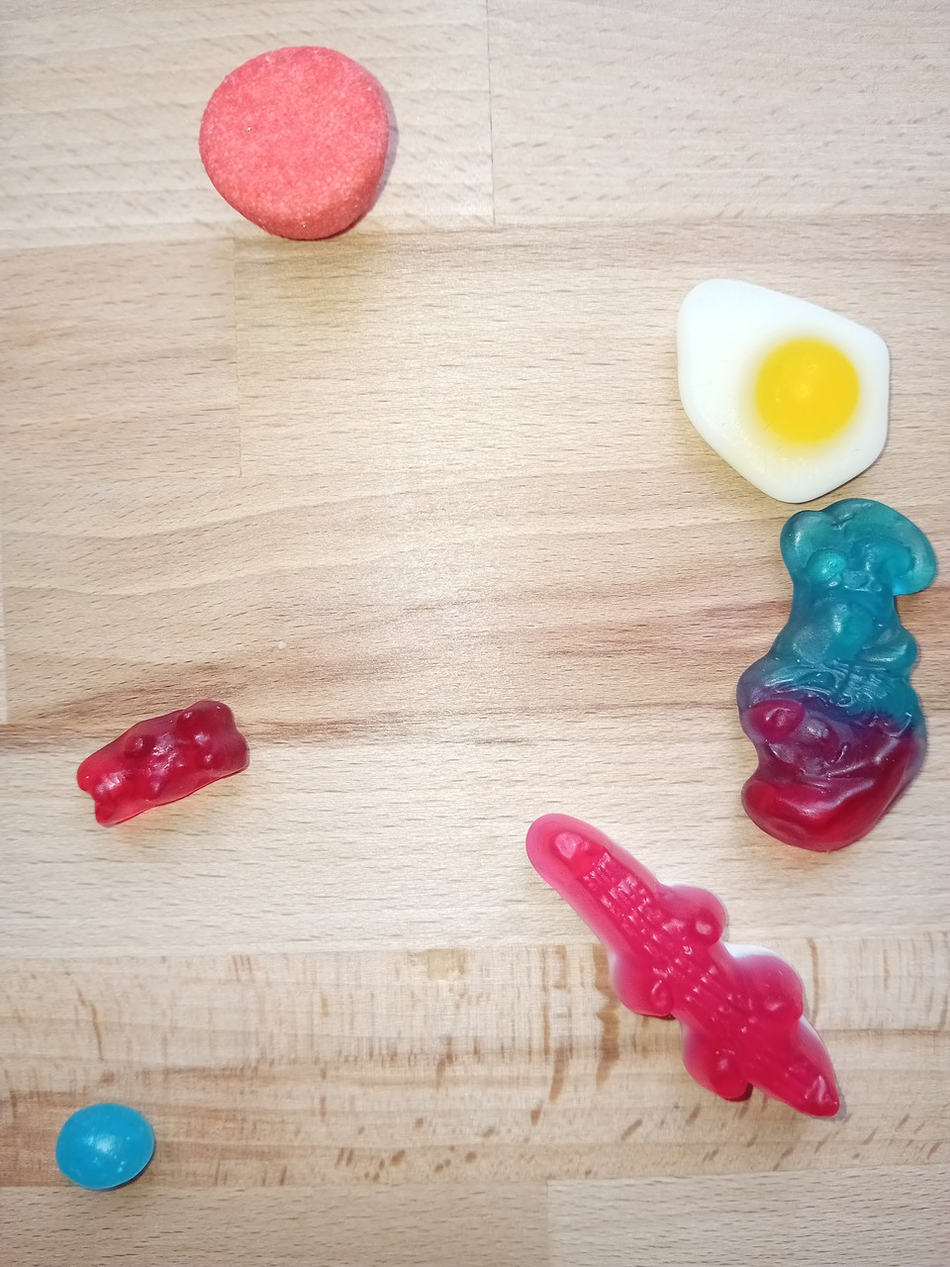crocodile_rouge: (524, 810, 847, 1125)
dragibus_bleu: (45, 1098, 164, 1195)
oeuf_oeuf: (668, 275, 901, 504)
ourson_rouge: (68, 693, 248, 831)
schtroumpf_bleu-rouge: (732, 493, 939, 857)
tagada_fraise: (193, 41, 392, 245)
